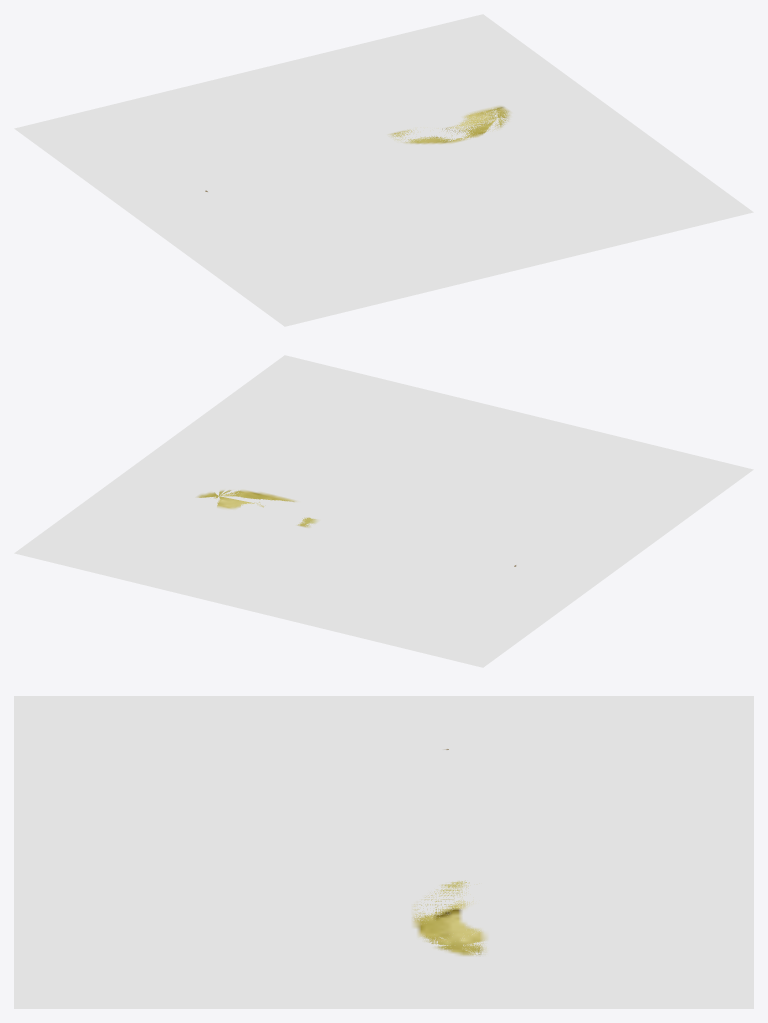
File: munkuFBX.fbx
3 views of the same model, one above another, from view 1: azimuth 30°, elevation 25°; view 2: azimuth 150°, elevation 25°; view 3: azimuth 270°, elevation 25° (orthographic). The views are drawn at different scales.
Parts seen in each view (by area): view 1: MunkuRightEye_sita, MunkuRightEye_namida, MunkuLeftEye_namida; view 2: MunkuRightEye_sita, MunkuRightEye_namida, MunkuLeftEye_namida; view 3: MunkuRightEye_sita, MunkuLeftEye_namida, MunkuRightEye_namida.
Part boxes in pixels (x1,y1,x2,y2): MunkuRightEye_sita: [14, 14, 753, 326]; MunkuRightEye_namida: [308, 69, 689, 223]; MunkuLeftEye_namida: [72, 117, 432, 251]; MunkuRightEye_sita: [14, 355, 753, 667]; MunkuRightEye_namida: [96, 395, 460, 560]; MunkuLeftEye_namida: [316, 483, 644, 627]; MunkuRightEye_sita: [14, 696, 753, 1008]; MunkuLeftEye_namida: [273, 696, 605, 860]; MunkuRightEye_namida: [162, 837, 568, 1008].
Bounding box in the file's own units: 1 × 0 × 1.
Materials: 12 (12 with a texture image).
